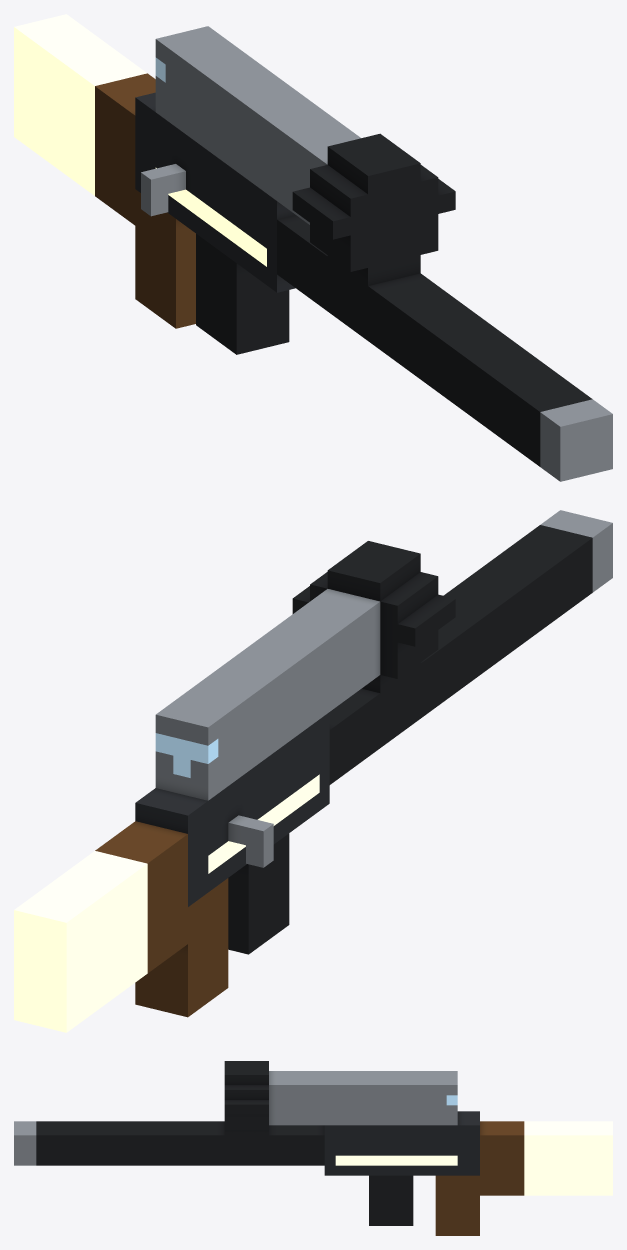
File: longshot_legendary.glb
The picture shows the model from 3 angles, top to bottom: view 1: azimuth 30°, elevation 25°; view 2: azimuth 150°, elevation 25°; view 3: azimuth 270°, elevation 25°; orthographic projection. The views are drawn at different scales.
Visible parts, largest first — view 1: longshot_legendary_body; view 2: longshot_legendary_body; view 3: longshot_legendary_body.
Part boxes in pixels (x1=…): longshot_legendary_body: x1=14, y1=14, x2=612, y2=481; longshot_legendary_body: x1=14, y1=510, x2=612, y2=1032; longshot_legendary_body: x1=14, y1=1061, x2=612, y2=1235.
Bounding box in the file's own units: 0.2734 × 0.625 × 2.11.
1 material, 1 textured.
